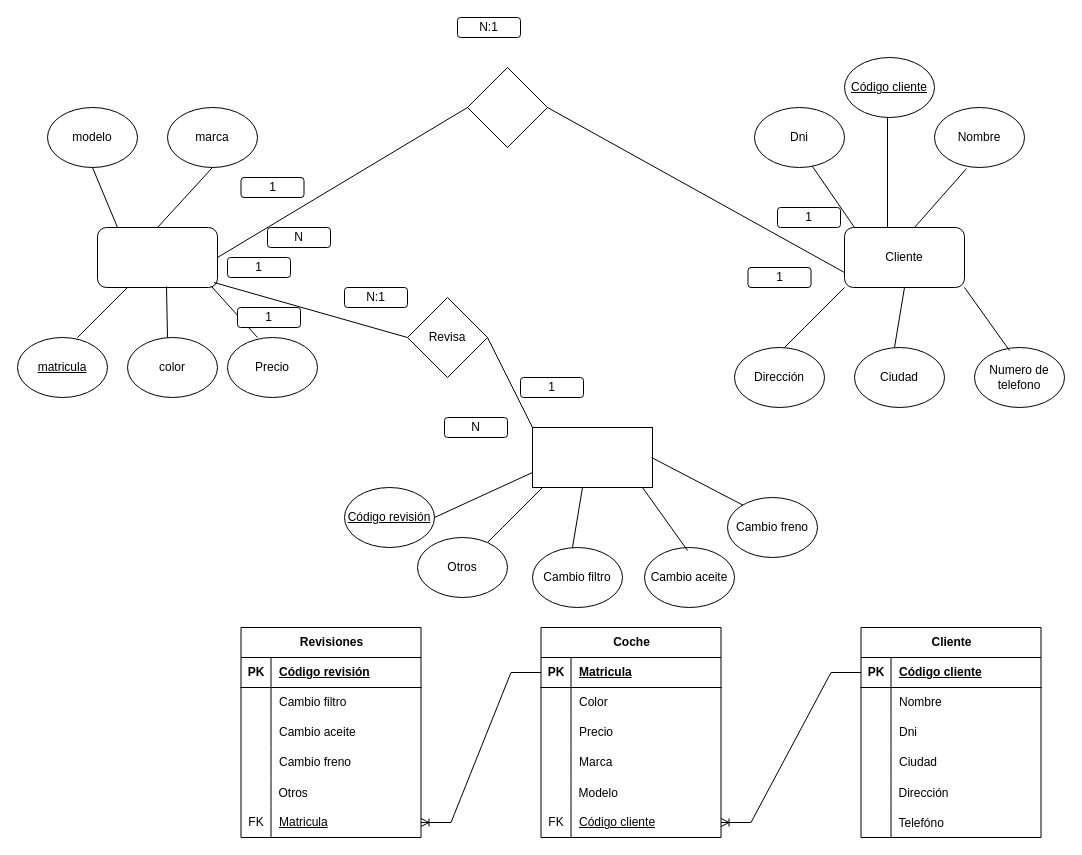
Some shapes in this 1082 by 855 pixel diagram are drawn without their labels. The centre of each missing label's shape, as x and y in pixels:
Auto: [157,257]
Compra: [507,107]
Revisión: [592,457]
